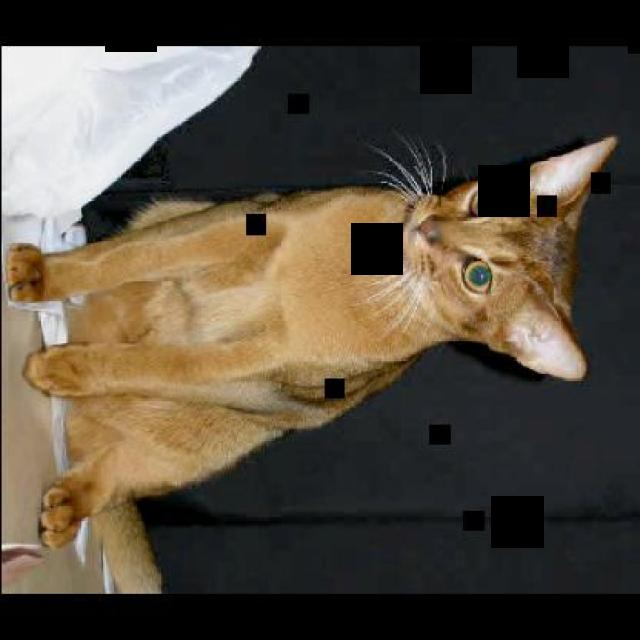unauthorized: (4, 130, 618, 592)
